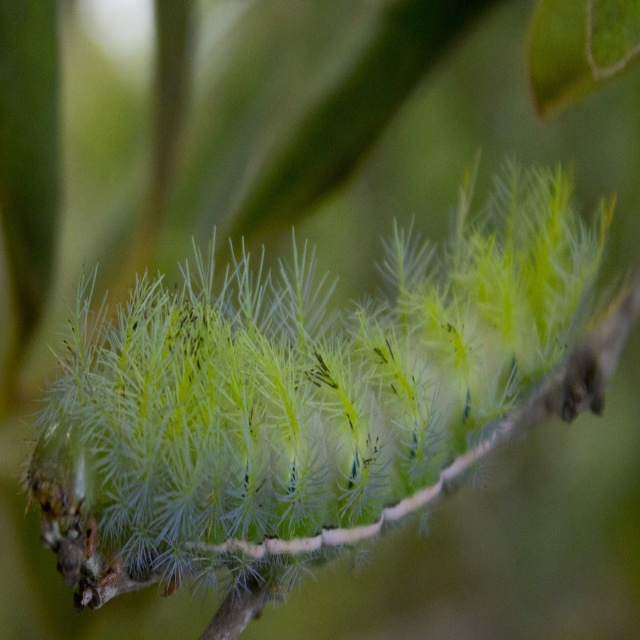Caterpillar: (14, 144, 635, 607)
